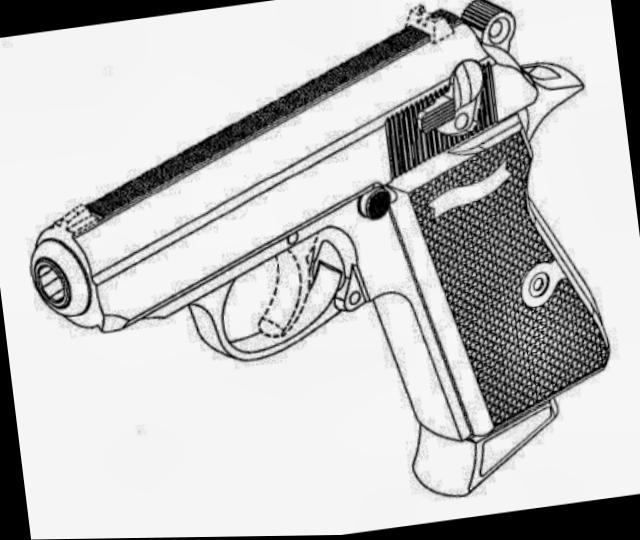pistol: (6, 0, 639, 540)
